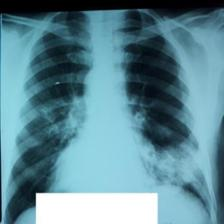tuberculosis: (6, 9, 216, 224)
